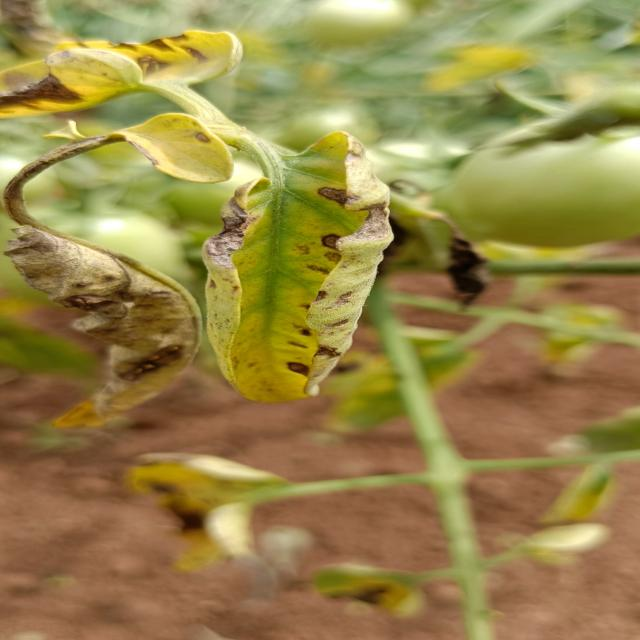tomato_early blight: (207, 118, 400, 405), (0, 201, 220, 428), (0, 24, 252, 127), (144, 451, 307, 585), (133, 112, 234, 187)
